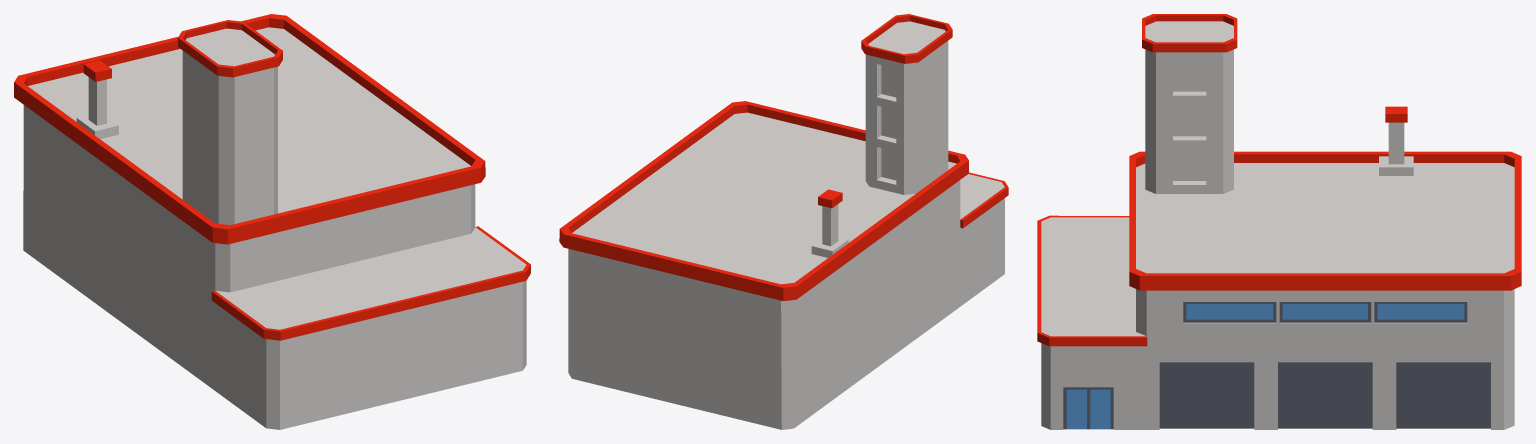
The model's file is bombeiros.fbx.
The picture shows the model from 3 angles, left to right: view 1: azimuth 30°, elevation 25°; view 2: azimuth 150°, elevation 25°; view 3: azimuth 270°, elevation 25°; orthographic projection. The views are drawn at different scales.
Parts seen in each view (by area): view 1: Bombeiros; view 2: Bombeiros; view 3: Bombeiros.
Part boxes in pixels (left/top/right/bottom): Bombeiros: left=14, top=14, right=530, bottom=429; Bombeiros: left=559, top=14, right=1008, bottom=429; Bombeiros: left=1037, top=14, right=1521, bottom=429.
Bounding box in the file's own units: 9345 × 10478 × 15332.
